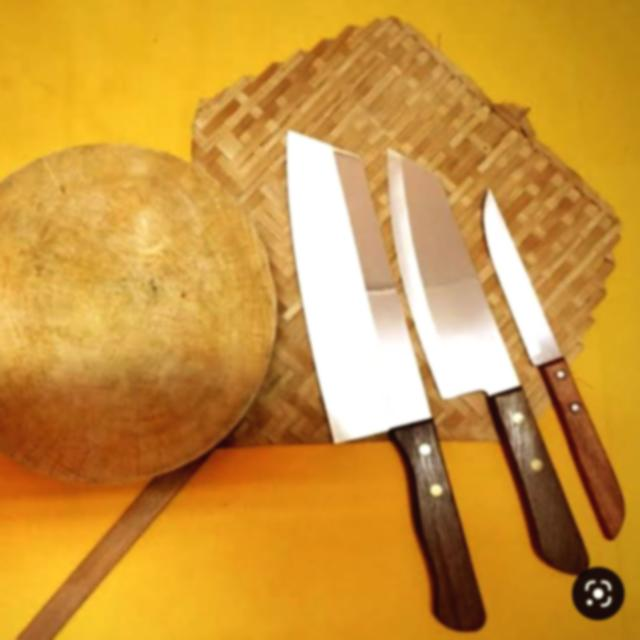knife: (274, 111, 630, 634)
